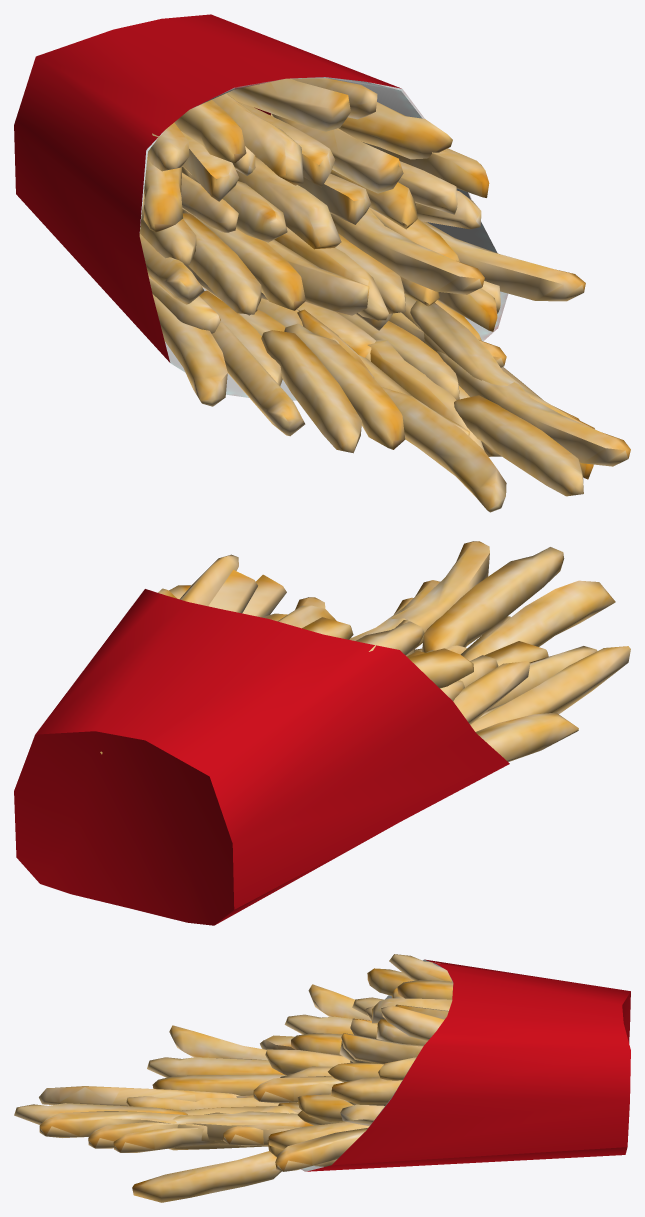
File: FrenchFries Bundel.fbx
3 renders of one model, top to bottom at view 1: azimuth 30°, elevation 25°; view 2: azimuth 150°, elevation 25°; view 3: azimuth 270°, elevation 25°, orthographic. The views are drawn at different scales.
Visible parts, largest first — view 1: French Fries1; view 2: French Fries1; view 3: French Fries1.
Part boxes in pixels (x1=…): French Fries1: x1=14, y1=14, x2=630, y2=512; French Fries1: x1=14, y1=541, x2=630, y2=925; French Fries1: x1=14, y1=954, x2=630, y2=1202.
Bounding box in the file's own units: 0.2143 × 0.1359 × 0.4209.
